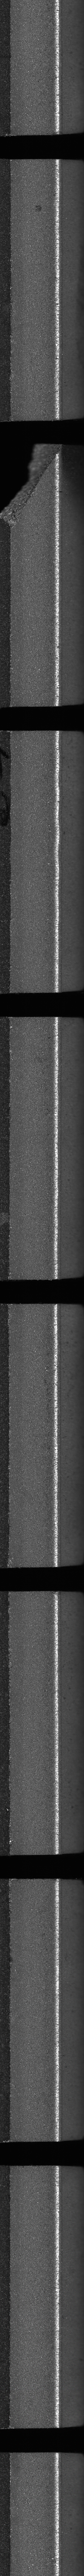Chip: (0, 439, 66, 536)
